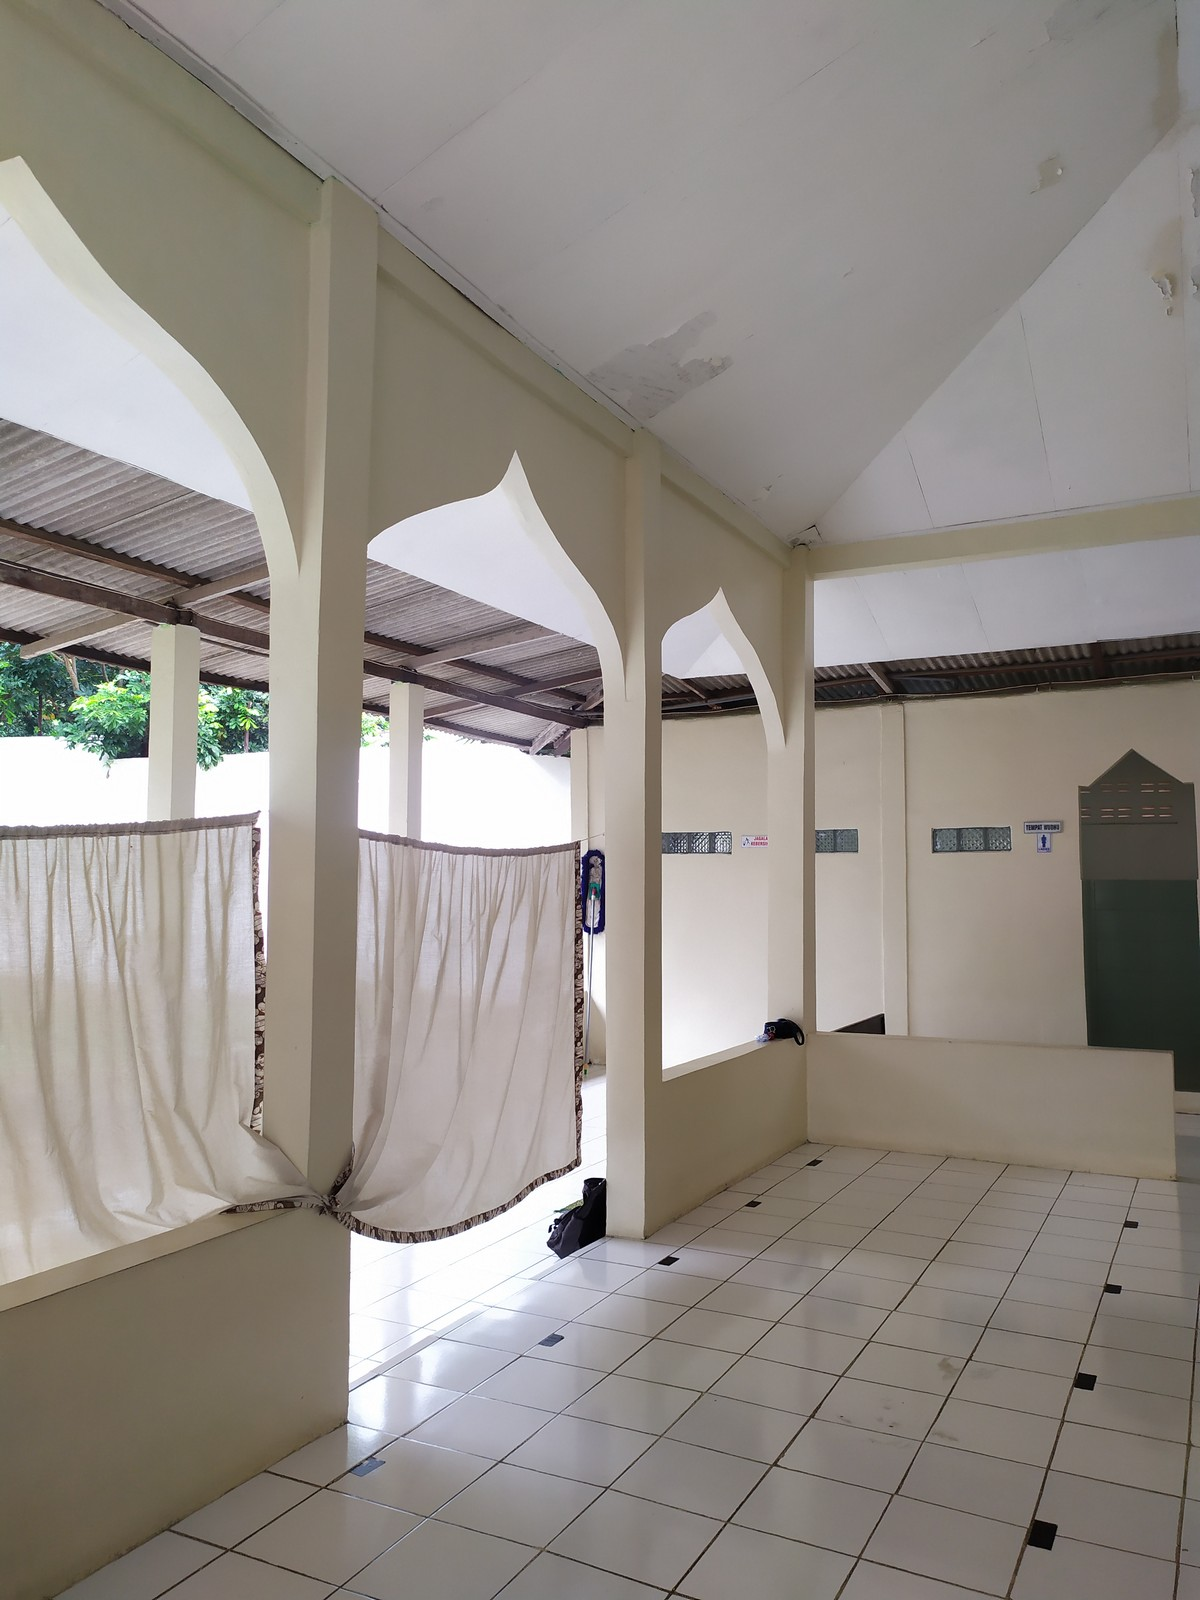concrete column: (261, 157, 392, 1225), (592, 412, 676, 1136), (758, 527, 823, 1065), (863, 698, 926, 1048), (142, 612, 200, 834), (384, 670, 432, 850)
